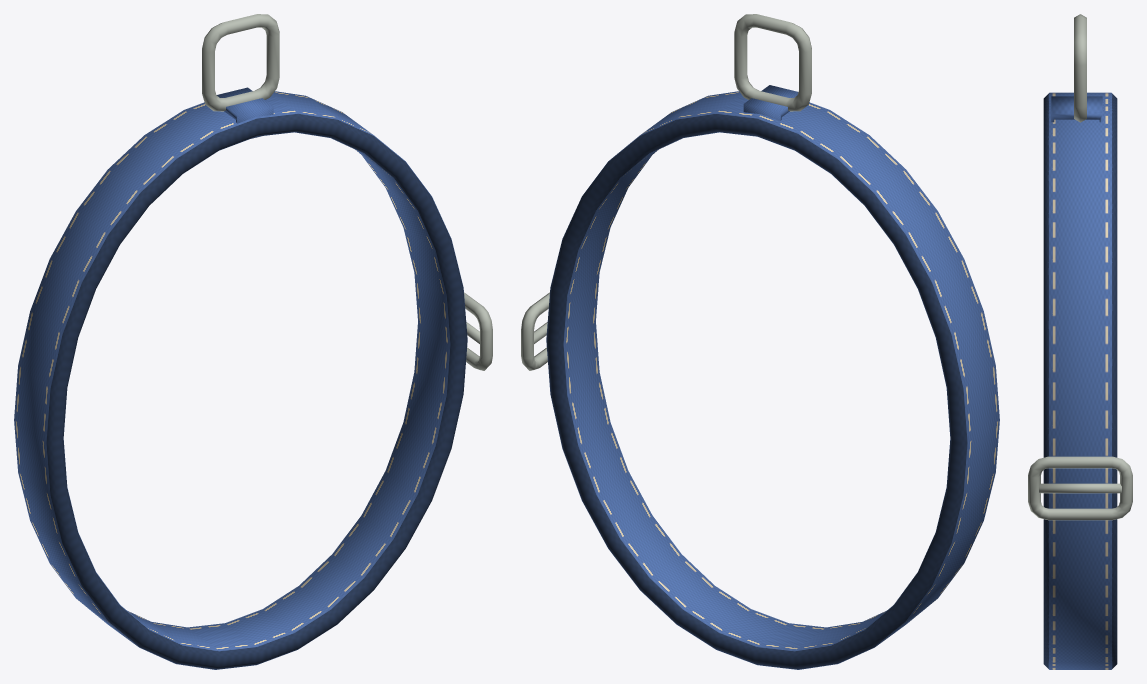
Rendered from KH_Collar_Lab.fbx.
3 renders of one model, left to right at view 1: azimuth 30°, elevation 25°; view 2: azimuth 150°, elevation 25°; view 3: azimuth 270°, elevation 25°, orthographic.
Visible parts, largest first — view 1: KH_Collar_Lab; view 2: KH_Collar_Lab; view 3: KH_Collar_Lab.
Boxes of the visible parts, box(x1,y1,x2,y2) form: KH_Collar_Lab: box(14, 14, 492, 669); KH_Collar_Lab: box(521, 14, 999, 669); KH_Collar_Lab: box(1028, 14, 1132, 669).
Bounding box in the file's own units: 0.2169 × 0.3007 × 0.0456.
1 material, 1 textured.
